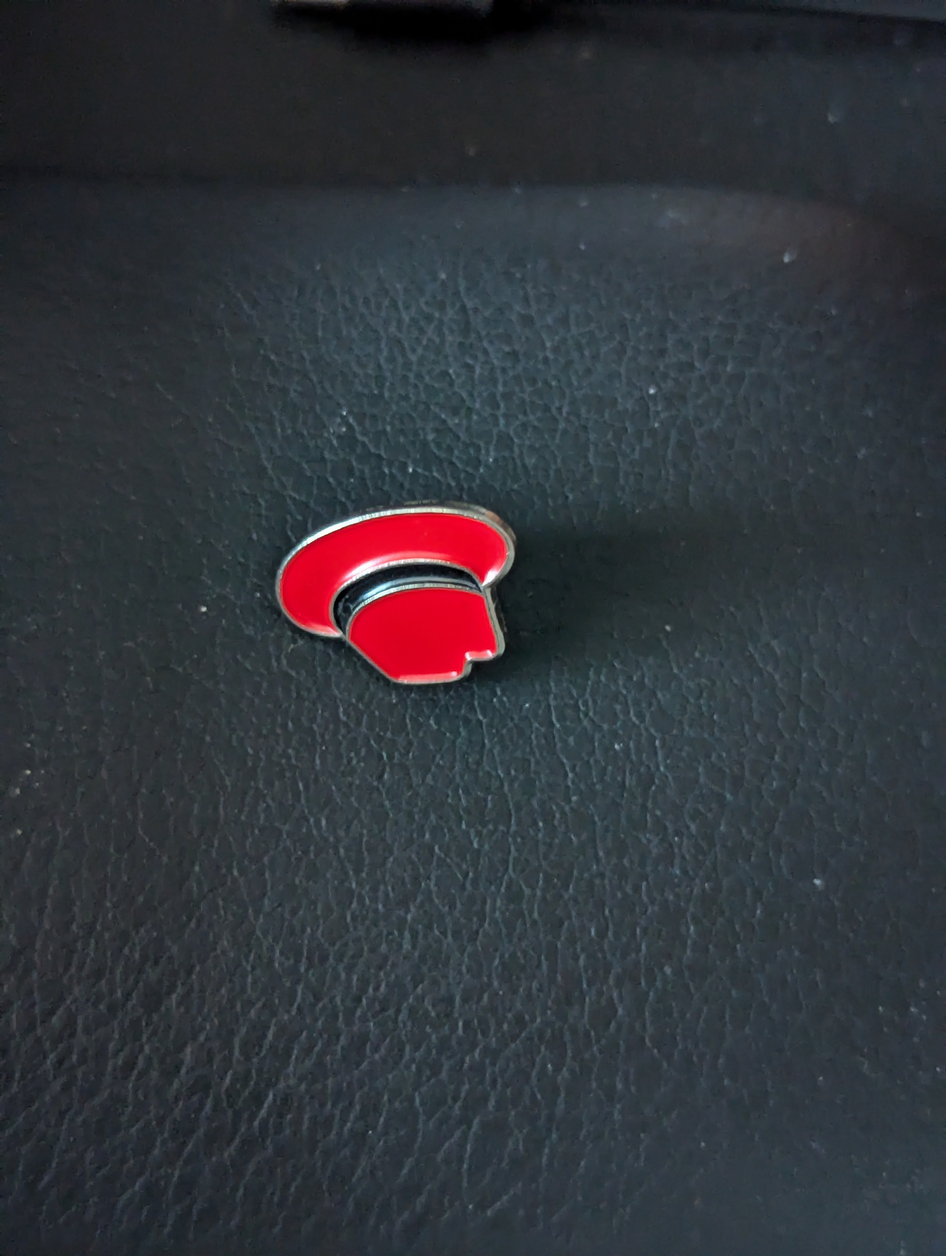Red-Hat: (175, 394, 623, 767)
